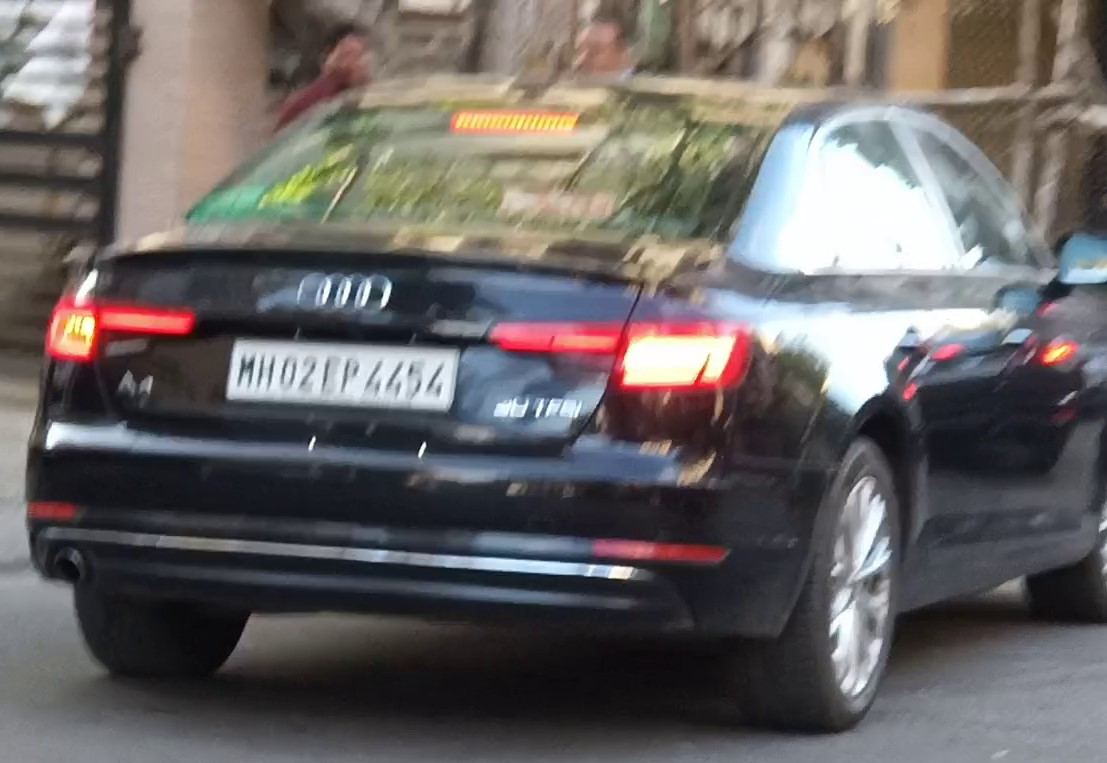MH02EP4454: (225, 335, 460, 414)
